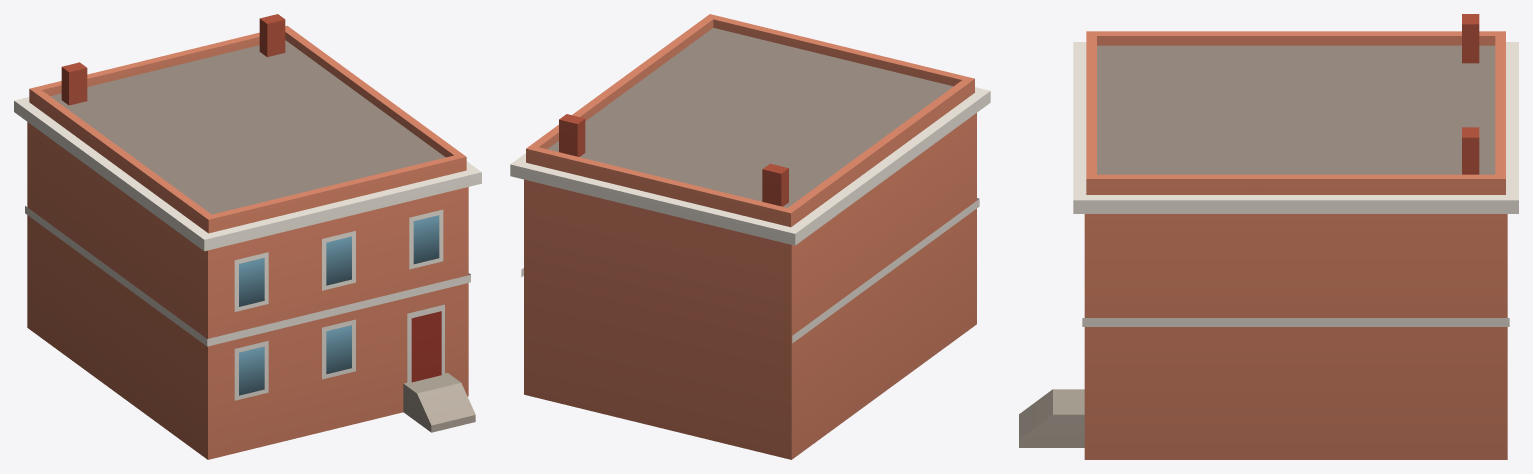
The model's file is beacon_n10_far.glb.
3 views of the same model, side by side, from view 1: azimuth 30°, elevation 25°; view 2: azimuth 150°, elevation 25°; view 3: azimuth 270°, elevation 25° (orthographic). The views are drawn at different scales.
Parts seen in each view (by area): view 1: beacon_n10_far; view 2: beacon_n10_far; view 3: beacon_n10_far.
Part boxes in pixels (x1,y1,x2,y2): beacon_n10_far: (14,14,481,459); beacon_n10_far: (510,14,990,459); beacon_n10_far: (1019,14,1518,459).
Size of the model in its own units: 10.64 by 9.69 by 14.18.
1 material, 1 textured.
